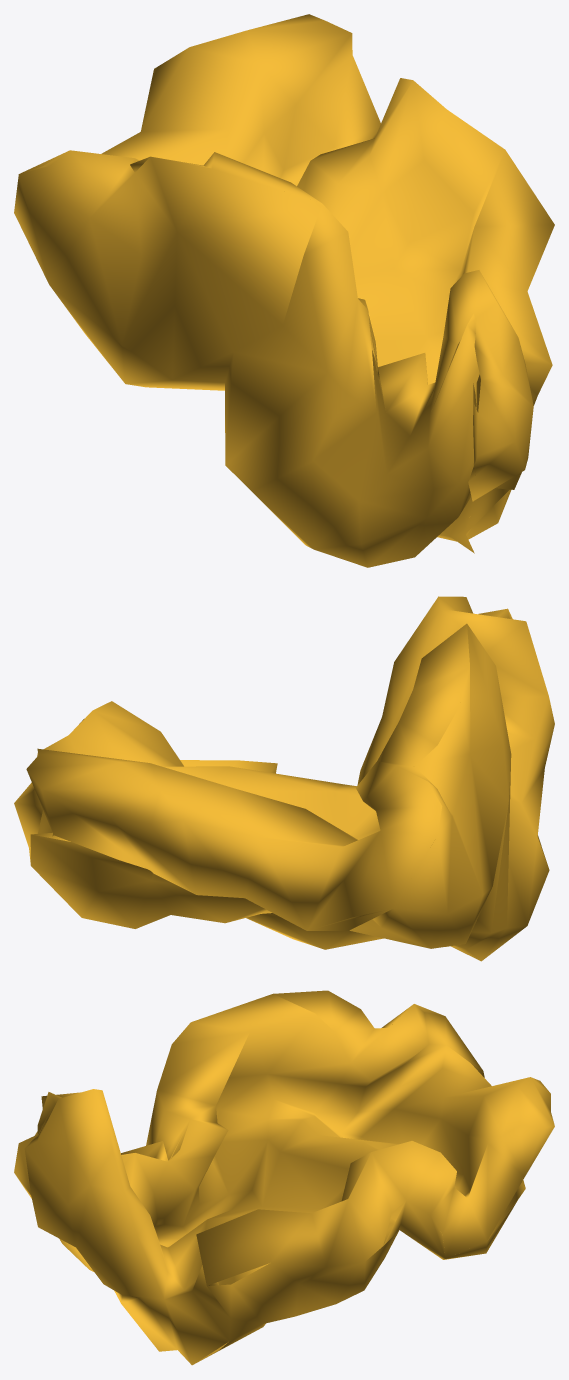
The model's file is nervoso-insula-subcentral-gyrus-and-ant-and-post-sulci-r.glb.
3 renders of one model, top to bottom at view 1: azimuth 30°, elevation 25°; view 2: azimuth 150°, elevation 25°; view 3: azimuth 270°, elevation 25°, orthographic. The views are drawn at different scales.
Visible parts, largest first — view 1: Insula (Subcentral gyrus and ant. and post. sulci*).r; view 2: Insula (Subcentral gyrus and ant. and post. sulci*).r; view 3: Insula (Subcentral gyrus and ant. and post. sulci*).r.
Part boxes in pixels (left/top/right/bottom): Insula (Subcentral gyrus and ant. and post. sulci*).r: left=14, top=14, right=554, bottom=567; Insula (Subcentral gyrus and ant. and post. sulci*).r: left=14, top=596, right=554, bottom=961; Insula (Subcentral gyrus and ant. and post. sulci*).r: left=14, top=990, right=554, bottom=1365.
Bounding box in the file's own units: 0.0281 × 0.0221 × 0.0376.
